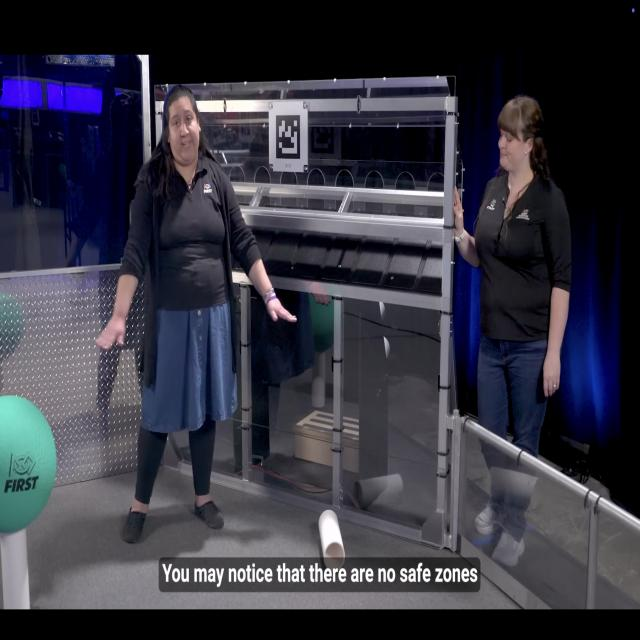algae: (1, 398, 60, 533)
coral: (0, 528, 44, 612), (313, 506, 350, 571)
